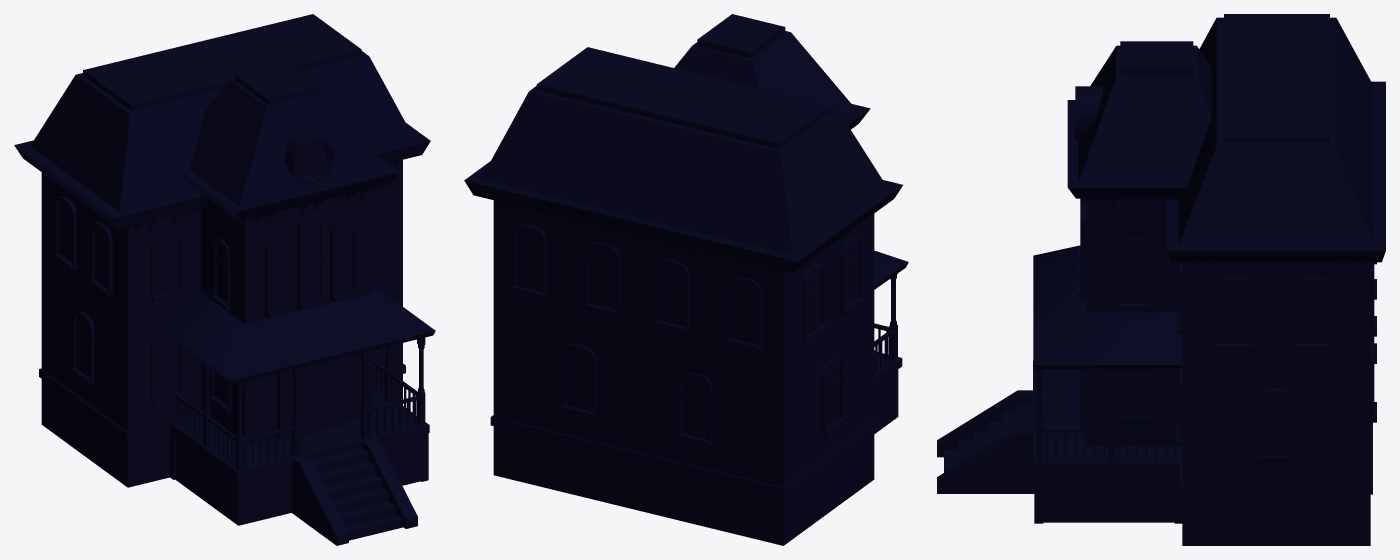
File: Mansion.fbx
3 renders of one model, left to right at view 1: azimuth 30°, elevation 25°; view 2: azimuth 150°, elevation 25°; view 3: azimuth 270°, elevation 25°, orthographic. The views are drawn at different scales.
Visible parts, largest first — view 1: Mansion; view 2: Mansion; view 3: Mansion.
Boxes of the visible parts, bbox=[...] form: Mansion: bbox=[14, 14, 435, 545]; Mansion: bbox=[464, 14, 908, 545]; Mansion: bbox=[937, 14, 1385, 545].
Bounding box in the file's own units: 89.48 × 103 × 100.
